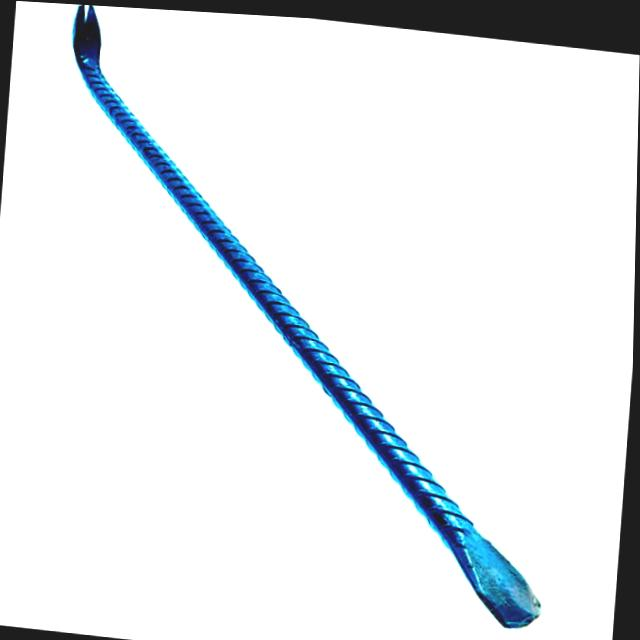crow bar: (23, 2, 600, 635)
